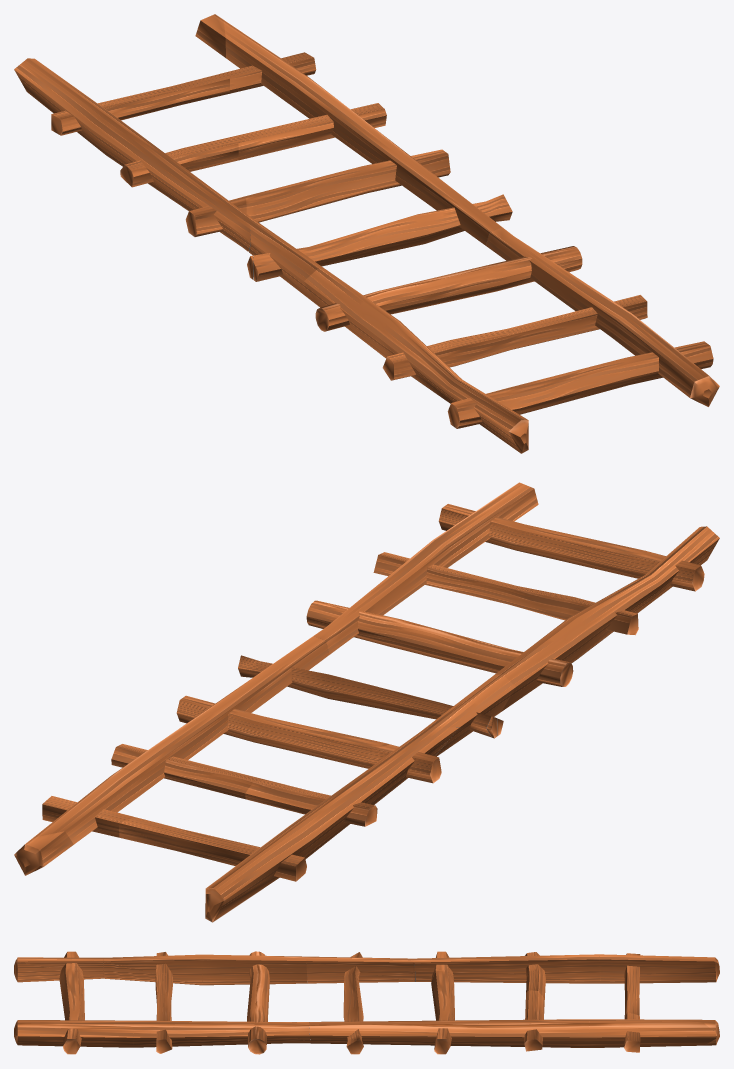
File: External-Stair-case.fbx
3 renders of one model, top to bottom at view 1: azimuth 30°, elevation 25°; view 2: azimuth 150°, elevation 25°; view 3: azimuth 270°, elevation 25°, orthographic. The views are drawn at different scales.
Parts seen in each view (by area): view 1: MESH_Ladder_01_MAT_TrimSheet_Wood_0_cell.002, MESH_Ladder_01_MAT_TrimSheet_Wood_0_cell, MESH_Ladder_01_MAT_TrimSheet_Wood_0_cell.001; view 2: MESH_Ladder_01_MAT_TrimSheet_Wood_0_cell.002, MESH_Ladder_01_MAT_TrimSheet_Wood_0_cell, MESH_Ladder_01_MAT_TrimSheet_Wood_0_cell.001; view 3: MESH_Ladder_01_MAT_TrimSheet_Wood_0_cell.002, MESH_Ladder_01_MAT_TrimSheet_Wood_0_cell, MESH_Ladder_01_MAT_TrimSheet_Wood_0_cell.001.
Part boxes in pixels (bbox=[...]): MESH_Ladder_01_MAT_TrimSheet_Wood_0_cell.002: bbox=[304, 227, 719, 453]; MESH_Ladder_01_MAT_TrimSheet_Wood_0_cell: bbox=[223, 20, 512, 304]; MESH_Ladder_01_MAT_TrimSheet_Wood_0_cell.001: bbox=[14, 14, 253, 279]; MESH_Ladder_01_MAT_TrimSheet_Wood_0_cell.002: bbox=[306, 482, 719, 711]; MESH_Ladder_01_MAT_TrimSheet_Wood_0_cell: bbox=[14, 636, 515, 859]; MESH_Ladder_01_MAT_TrimSheet_Wood_0_cell.001: bbox=[16, 716, 497, 922]; MESH_Ladder_01_MAT_TrimSheet_Wood_0_cell.002: bbox=[14, 951, 310, 1054]; MESH_Ladder_01_MAT_TrimSheet_Wood_0_cell: bbox=[306, 953, 716, 1054]; MESH_Ladder_01_MAT_TrimSheet_Wood_0_cell.001: bbox=[356, 951, 719, 1045].
Bounding box in the file's own units: 43.56 × 6.88 × 149.
Materials: 2 (1 with a texture image).
